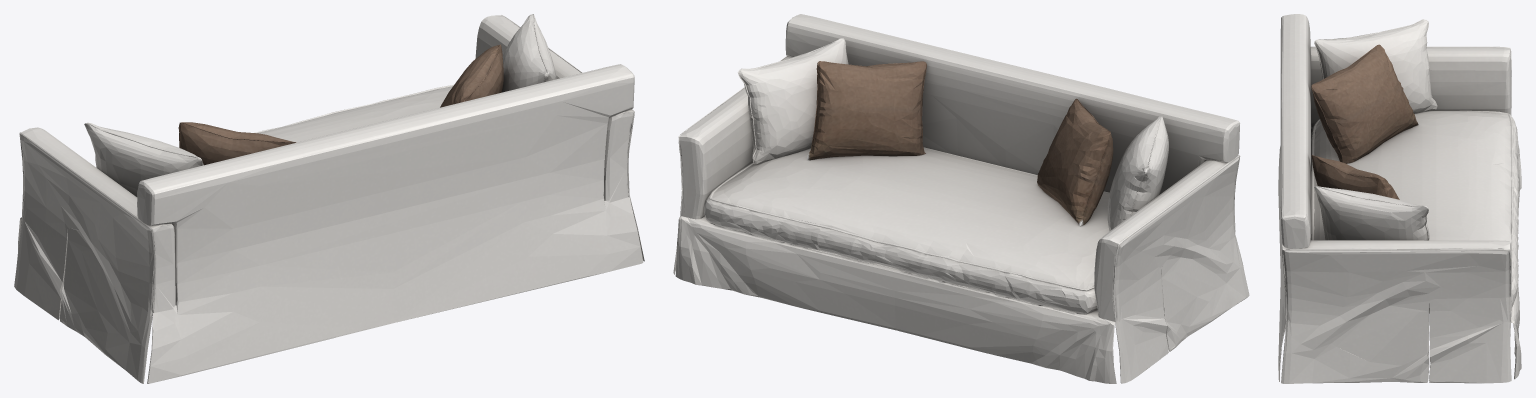
File: 1_97d47716-c1d9-4fea-baf2-60a0fec7712c.obj
The picture shows the model from 3 angles, left to right: view 1: azimuth 30°, elevation 25°; view 2: azimuth 150°, elevation 25°; view 3: azimuth 270°, elevation 25°; orthographic projection. The views are drawn at different scales.
Bounding box in the file's own units: 2.13 × 0.797 × 1.04.
Materials: 1 (1 with a texture image).
